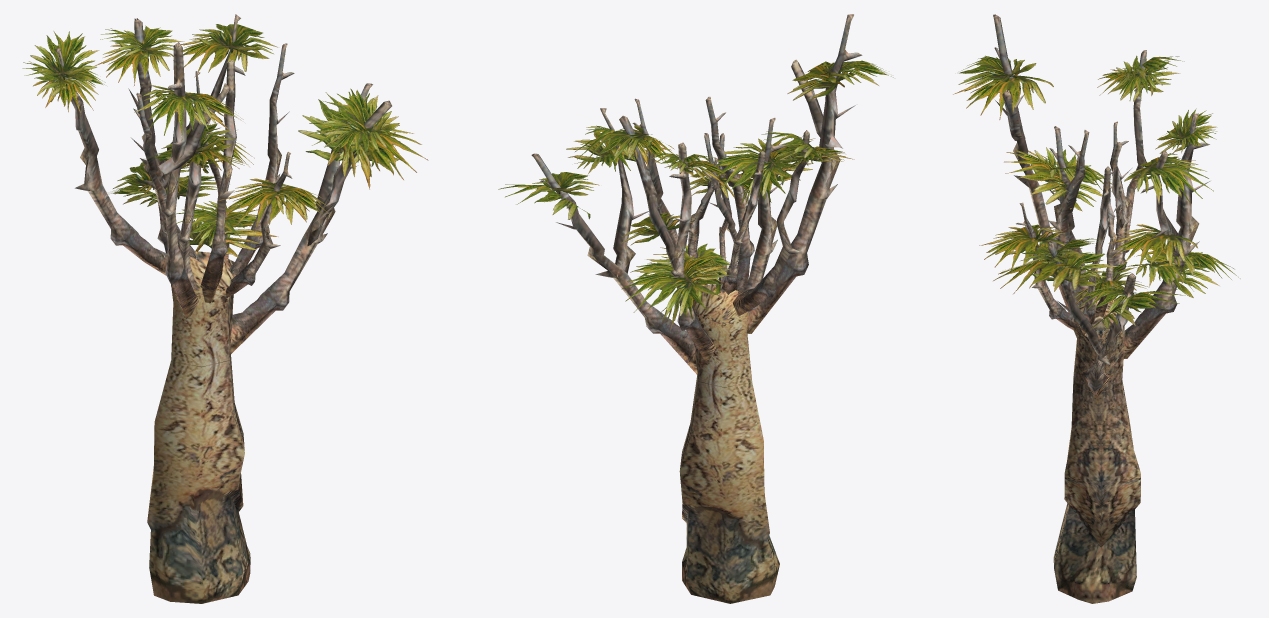
The model's file is S_Tree_Yellow036.FBX.
3 views of the same model, side by side, from view 1: azimuth 30°, elevation 25°; view 2: azimuth 150°, elevation 25°; view 3: azimuth 270°, elevation 25° (orthographic). The views are drawn at different scales.
Parts seen in each view (by area): view 1: S_Tree_Yellow036; view 2: S_Tree_Yellow036; view 3: S_Tree_Yellow036.
Part boxes in pixels (x1,y1,x2,y2): S_Tree_Yellow036: [22, 14, 428, 603]; S_Tree_Yellow036: [498, 14, 893, 603]; S_Tree_Yellow036: [953, 14, 1240, 603].
Size of the model in its own units: 581 by 459 by 852.
